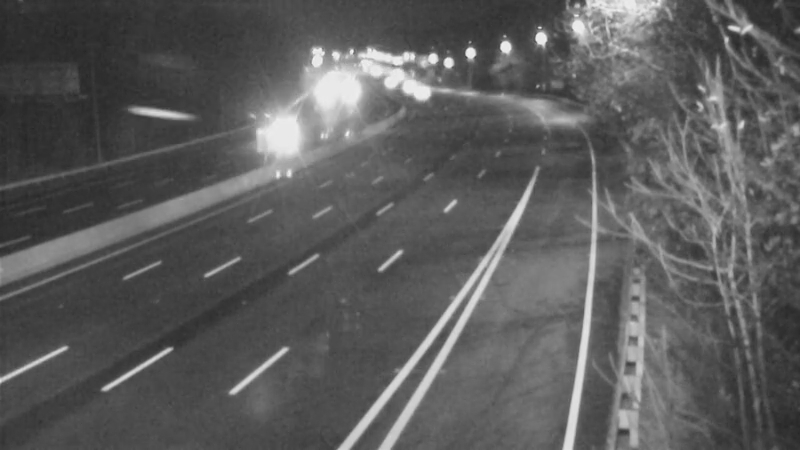vehicle: (364, 59, 414, 109), (383, 62, 433, 112), (397, 65, 447, 115), (257, 106, 307, 156), (299, 69, 349, 119)
